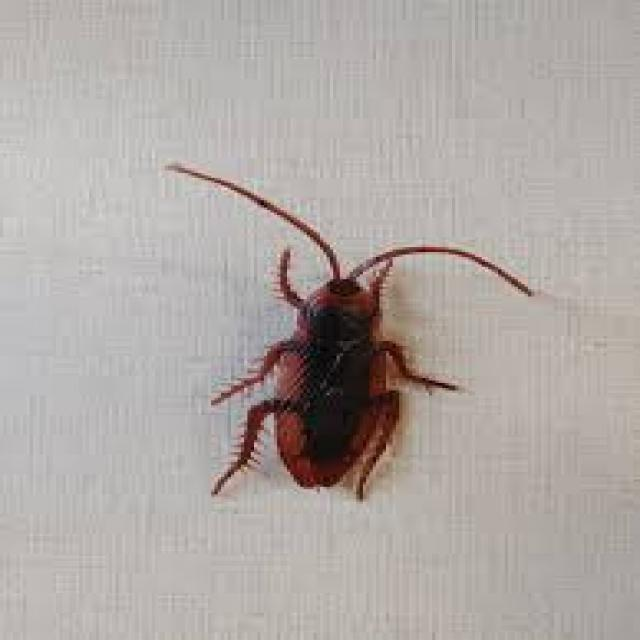Cockroach: (196, 183, 471, 540)
